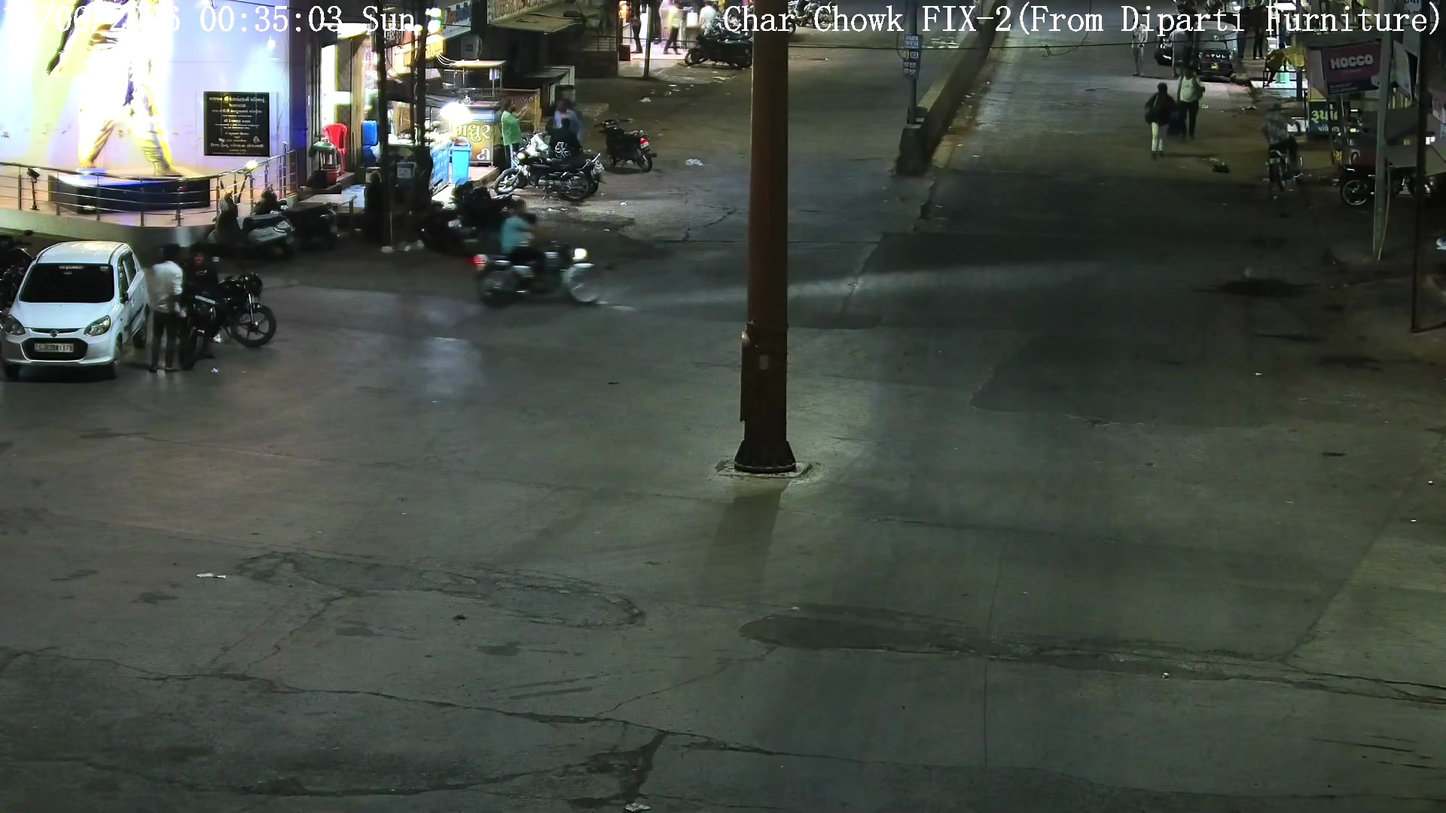car: (0, 234, 138, 371)
pedestrian: (1141, 76, 1175, 162), (1178, 70, 1204, 137)
two_wheeler: (149, 250, 280, 351), (471, 234, 604, 308), (173, 265, 278, 349), (599, 115, 657, 173)
